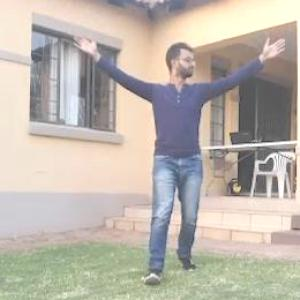takeoff: (71, 29, 284, 261)
